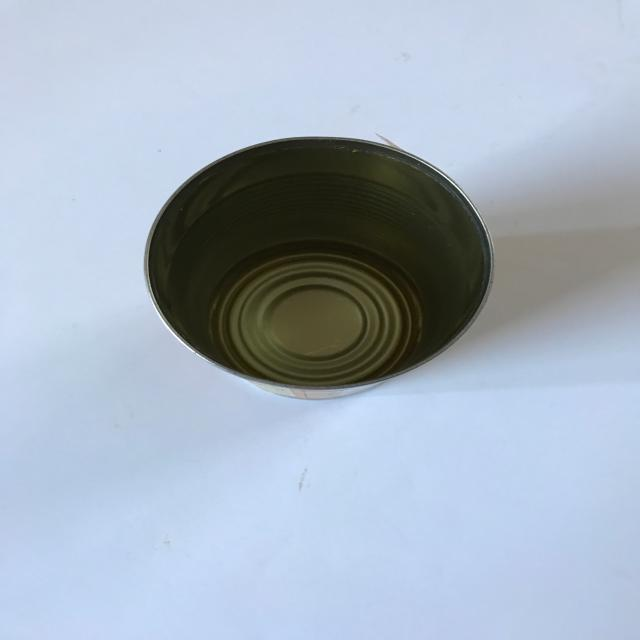metal: (138, 134, 498, 400)
